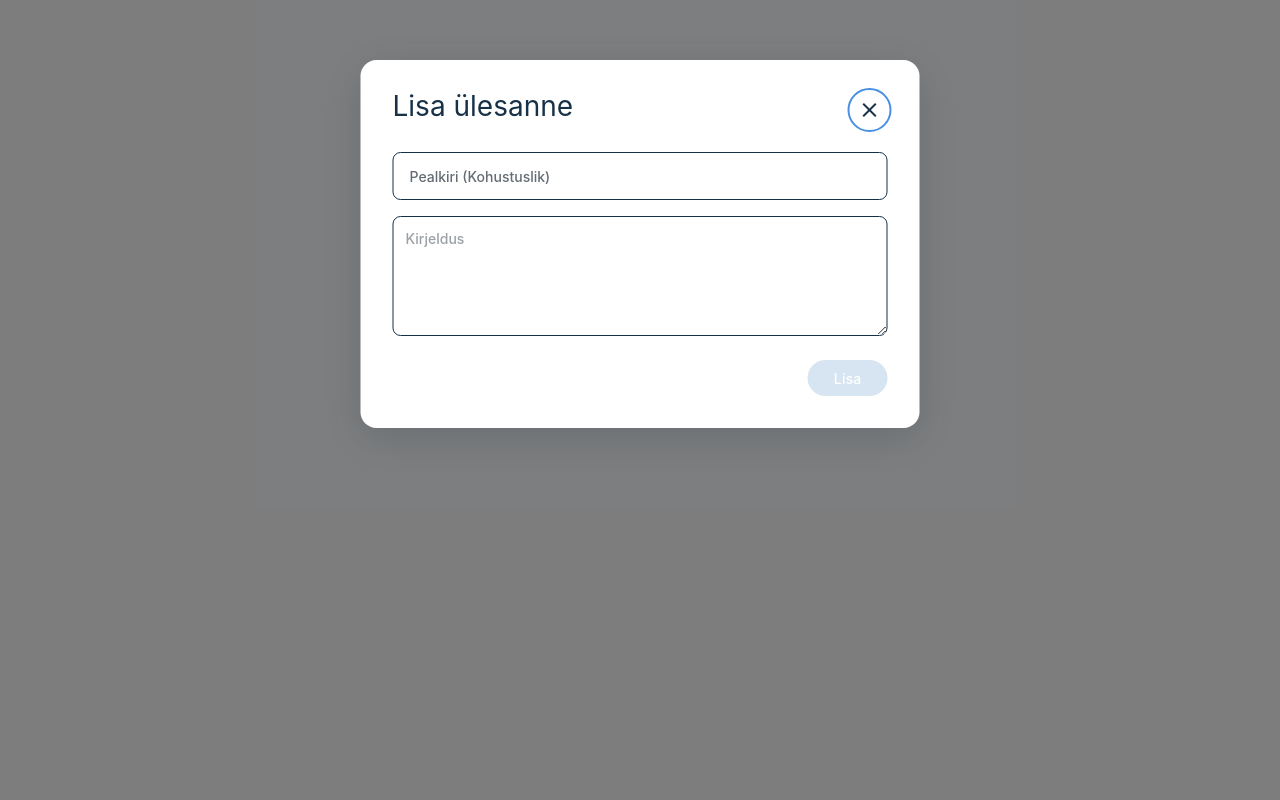
Test: AddEntryModal › group 1 › group 1 › group 1 › group 1 › group 1 › input handling › enables submit button when title entered
The width and height of the screenshot is (1280, 800).
Type "Test Title" into the field with placeholder "Pealkiri (Kohustuslik)" at (640, 176), box [392,152,888,200]
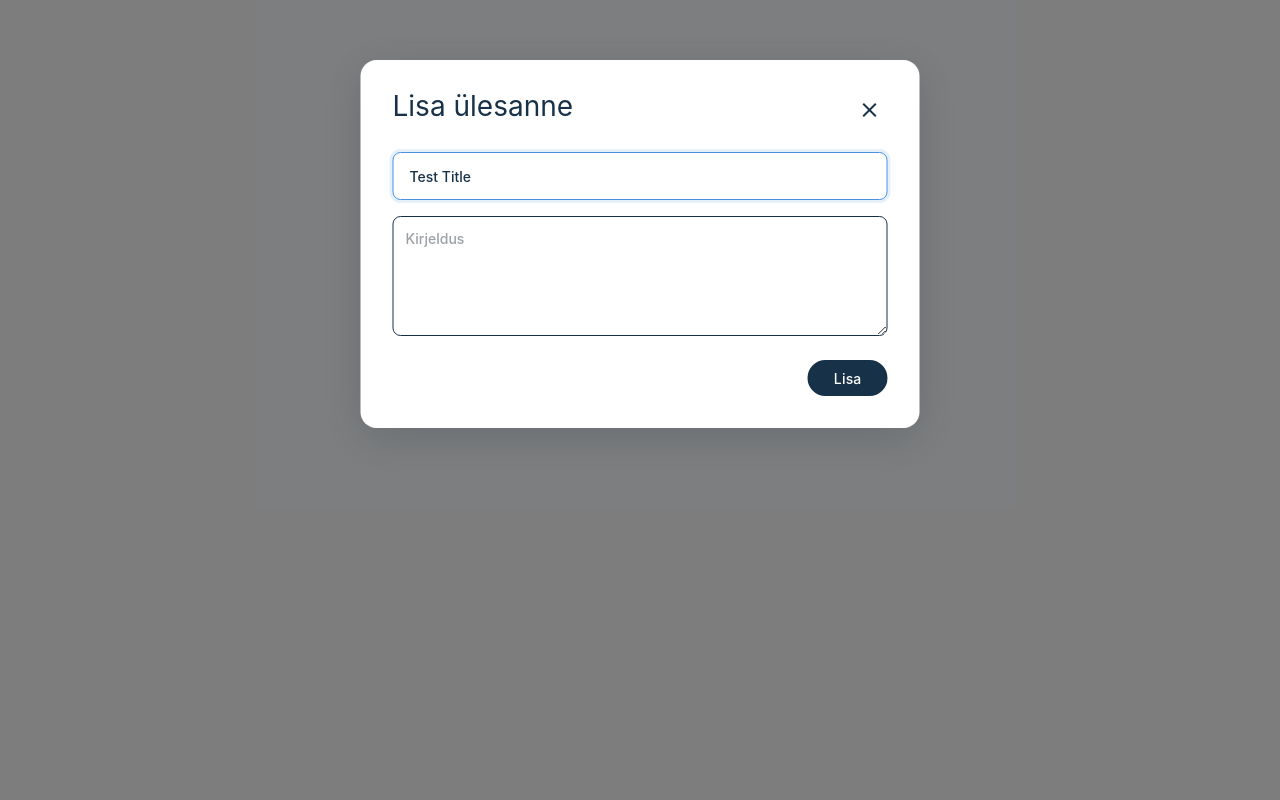
Expected: the button "Lisa" is enabled, [808,360,888,396]
